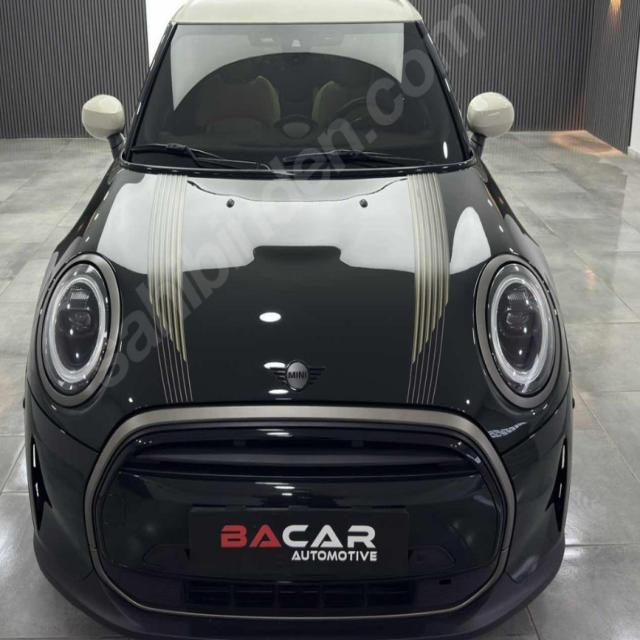mini: (252, 350, 335, 398)
